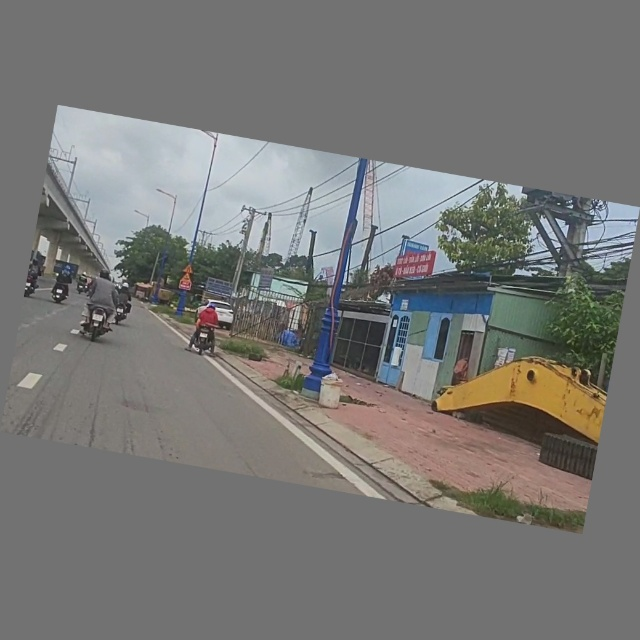W.203c: (183, 263, 195, 274)
W.245a: (181, 273, 193, 282)
